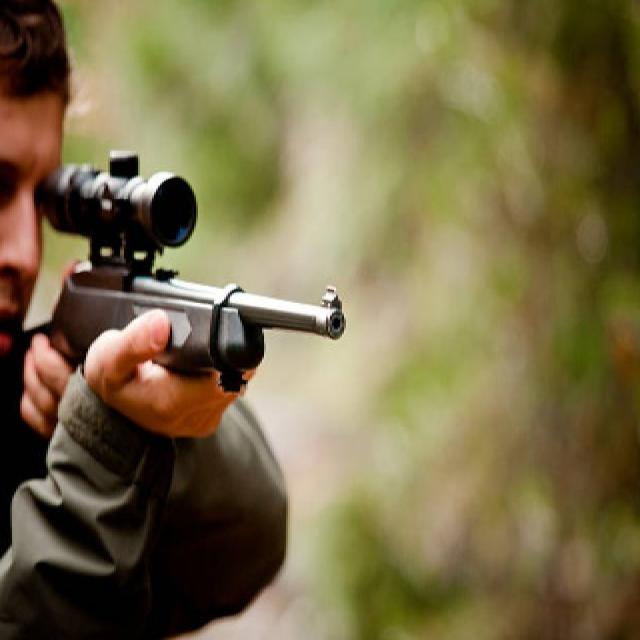rifle: (33, 131, 363, 393)
